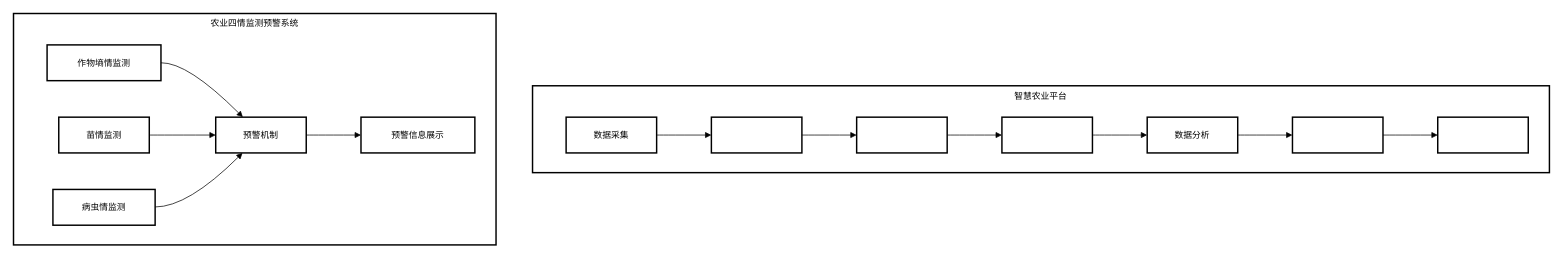
The diagram is 1562 pixels wide and 258 high, and some of its shapes have lost their labels. The centre of each missing label's shape, as x and y in pixels:
"优化决策" belongs at (x=1483, y=134).
"数据传输" belongs at (x=756, y=134).
"数据处理" belongs at (x=902, y=134).
"数据存储" belongs at (x=1047, y=134).
"生成报表" belongs at (x=1337, y=134).
